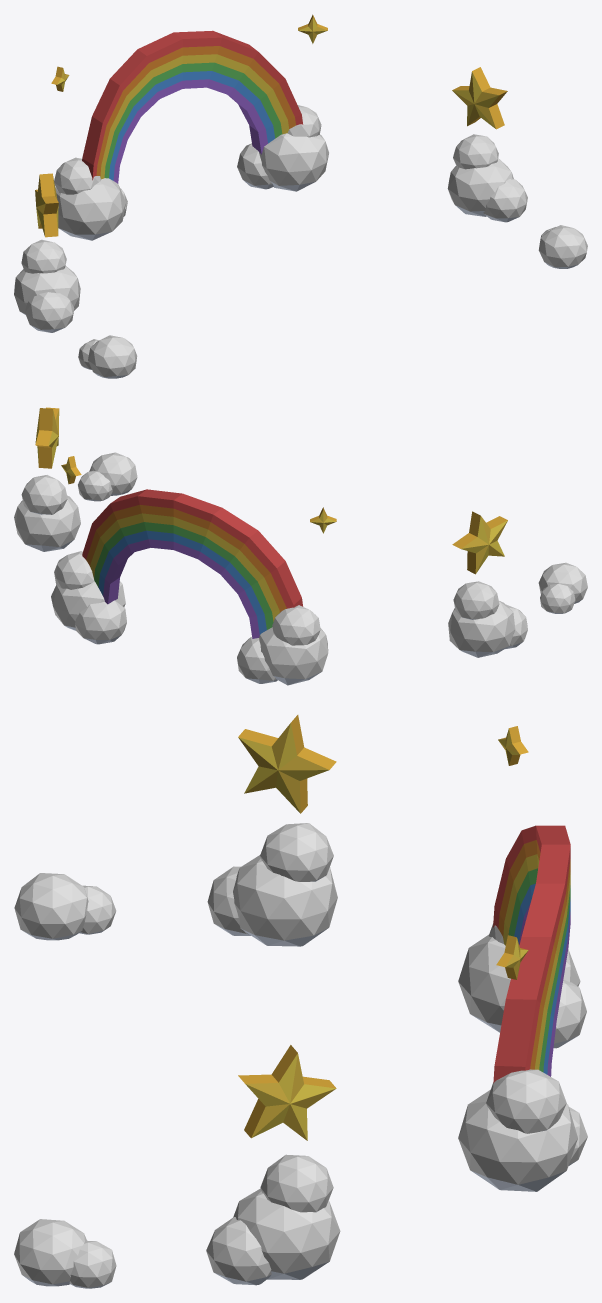
Rendered from habitat_theme_sky.fbx.
3 views of the same model, one above another, from view 1: azimuth 30°, elevation 25°; view 2: azimuth 150°, elevation 25°; view 3: azimuth 270°, elevation 25° (orthographic). The views are drawn at different scales.
Parts seen in each view (by area): view 1: habitat_theme_sky; view 2: habitat_theme_sky; view 3: habitat_theme_sky.
Boxes of the visible parts, x1=… form: habitat_theme_sky: x1=14, y1=14, x2=587, y2=378; habitat_theme_sky: x1=14, y1=407, x2=587, y2=685; habitat_theme_sky: x1=14, y1=715, x2=587, y2=1288.
Bounding box in the file's own units: 6.87 × 2.31 × 4.38.
